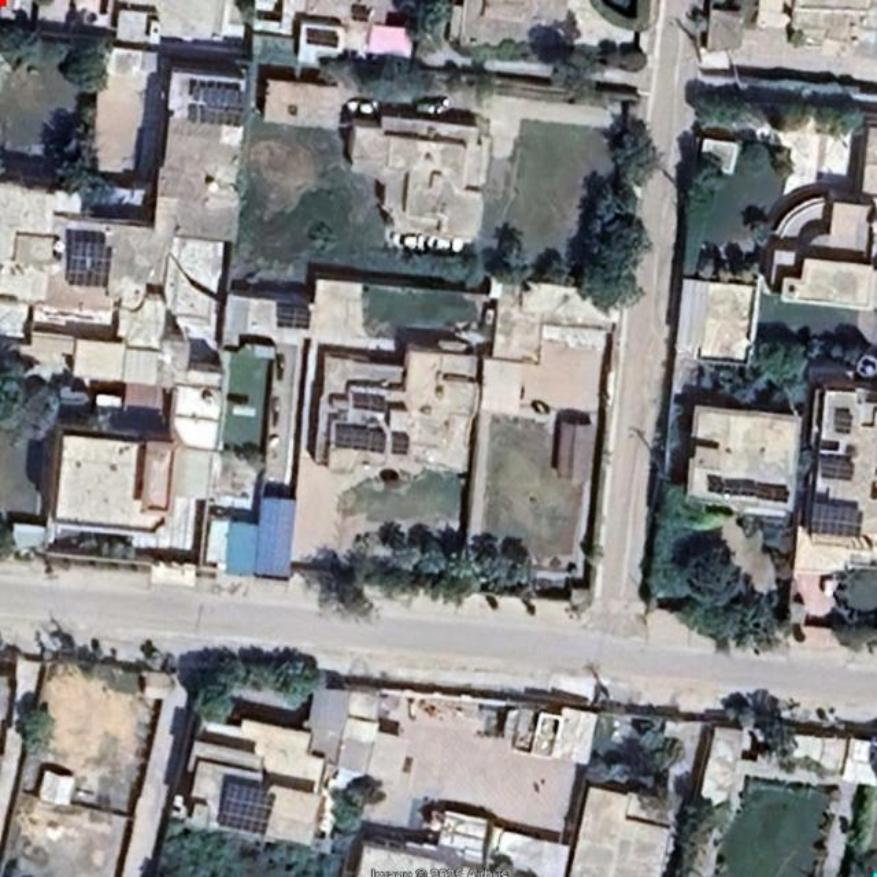Solarpanel: (220, 784, 278, 835), (191, 85, 241, 124), (70, 240, 112, 285), (810, 502, 863, 536), (336, 427, 384, 451), (275, 302, 312, 329), (820, 458, 852, 481), (391, 434, 410, 453), (835, 410, 851, 430)
